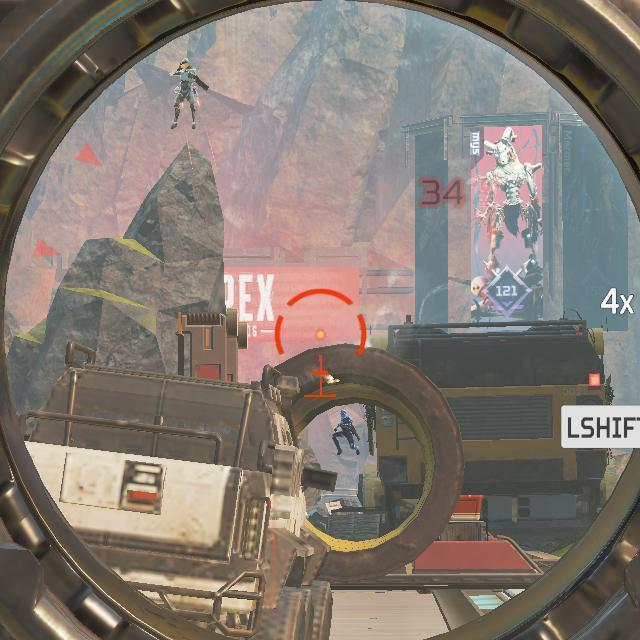avatar: (169, 57, 201, 132), (331, 409, 361, 457)
